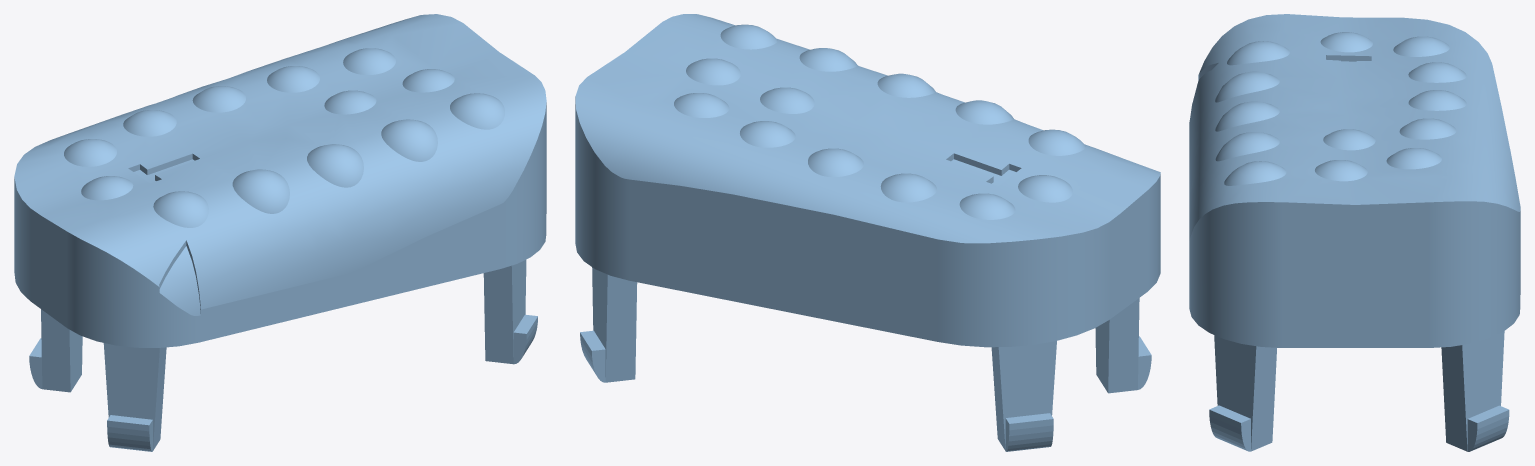
3 renders of one model, left to right at view 1: azimuth 30°, elevation 25°; view 2: azimuth 150°, elevation 25°; view 3: azimuth 270°, elevation 25°, orthographic. The views are drawn at different scales.
Visible parts, largest first — view 1: =>[0:1:1:3], =>[0:1:1:4]; view 2: =>[0:1:1:3], =>[0:1:1:4]; view 3: =>[0:1:1:3].
Boxes of the visible parts, x1,y1,x2,y2 form: =>[0:1:1:3]: (14,14,546,451); =>[0:1:1:4]: (29,309,82,392); =>[0:1:1:3]: (575,14,1160,393); =>[0:1:1:4]: (991,341,1056,451); =>[0:1:1:3]: (1189,14,1520,451).
Size of the model in its own units: 38.92 by 20.53 by 23.28.
